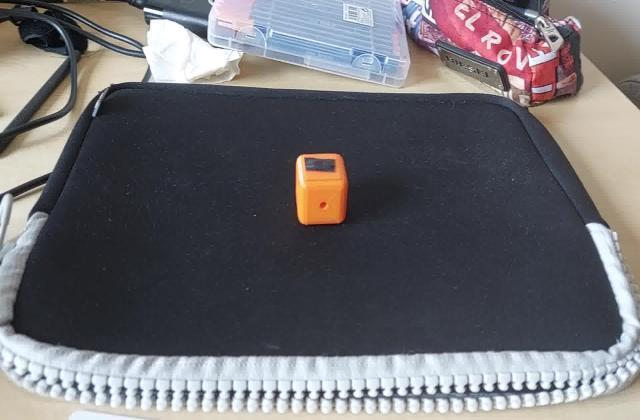black: (302, 154, 338, 174)
cube: (290, 150, 349, 228)
